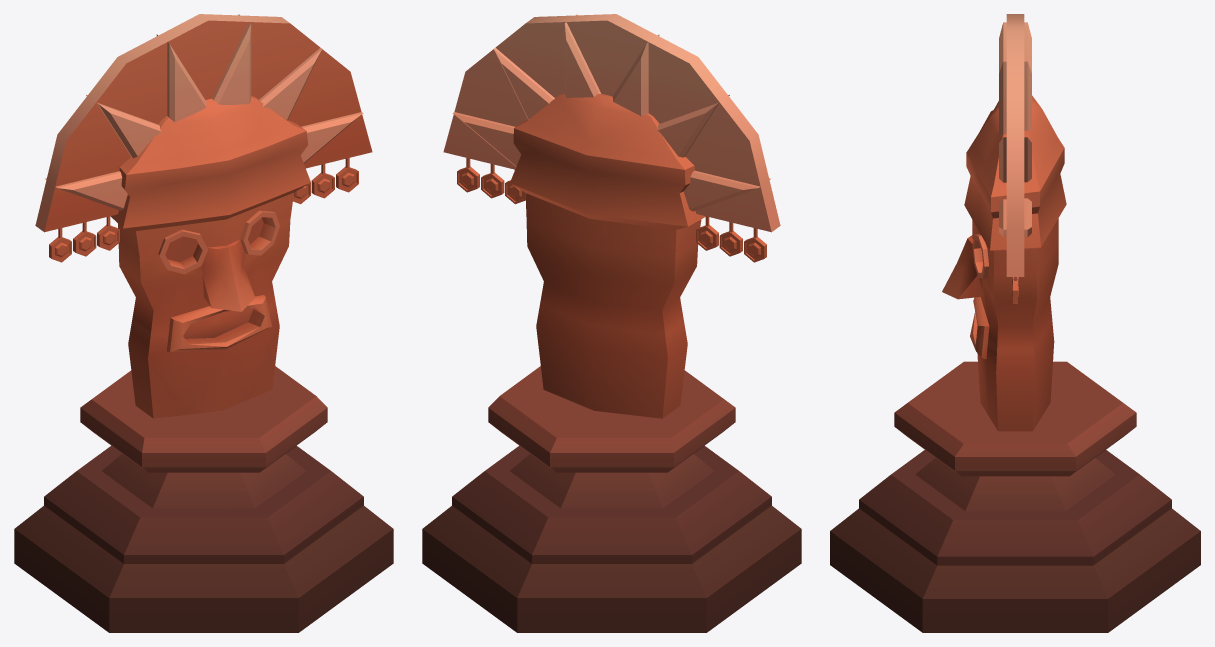
The model's file is MonolitoMuiscaOk.fbx.
The picture shows the model from 3 angles, left to right: view 1: azimuth 30°, elevation 25°; view 2: azimuth 150°, elevation 25°; view 3: azimuth 270°, elevation 25°; orthographic projection. The views are drawn at different scales.
Visible parts, largest first — view 1: MonolitoMuisca; view 2: MonolitoMuisca; view 3: MonolitoMuisca.
Part boxes in pixels (box(x1,y1,x2,y2)): MonolitoMuisca: box(14, 14, 393, 632); MonolitoMuisca: box(422, 14, 801, 632); MonolitoMuisca: box(830, 14, 1200, 632).
Size of the model in its own units: 1000 by 1590 by 1000.
1 material, 1 textured.
